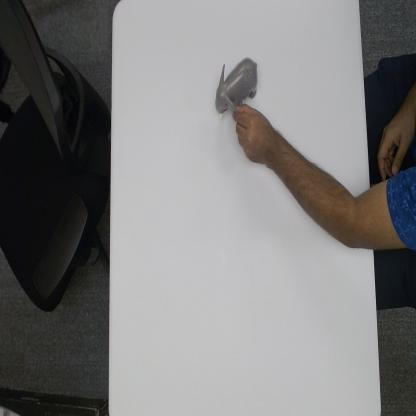Arm: (273, 128, 371, 250)
Elephant: (215, 53, 260, 117)
Hand: (234, 103, 274, 167)
